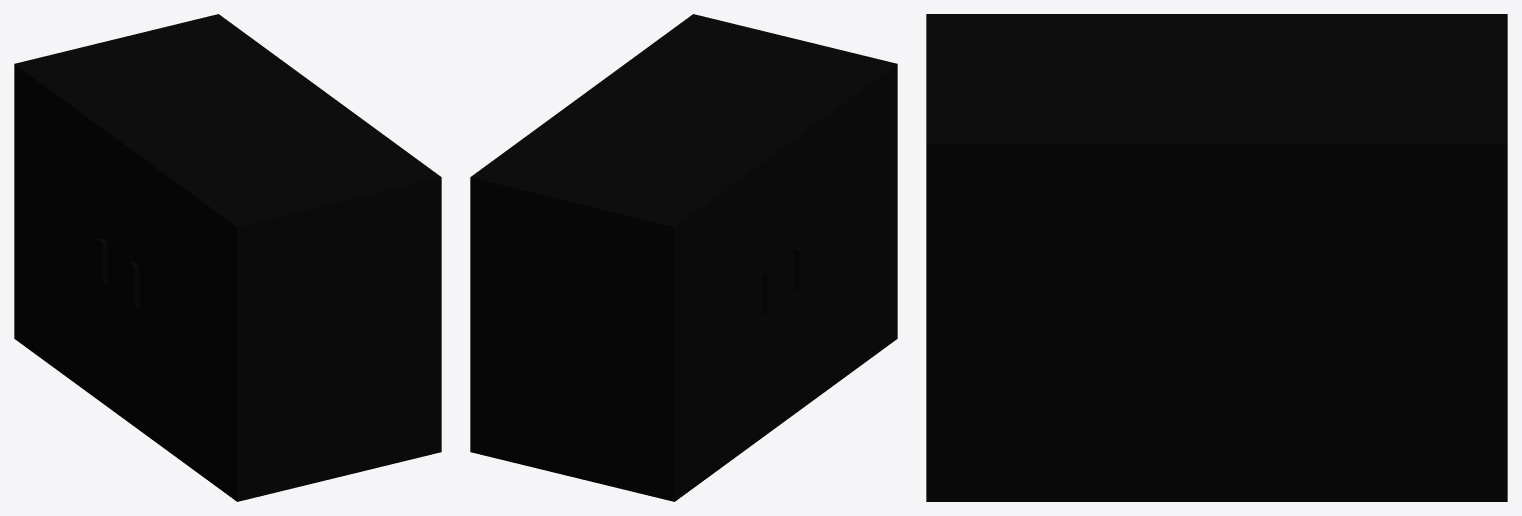
The model's file is FreeStandingKitchenCuboardA.fbx.
3 renders of one model, left to right at view 1: azimuth 30°, elevation 25°; view 2: azimuth 150°, elevation 25°; view 3: azimuth 270°, elevation 25°, orthographic. The views are drawn at different scales.
Parts seen in each view (by area): view 1: node_id5; view 2: node_id5; view 3: node_id5.
Part boxes in pixels (bbox=[...]): node_id5: bbox=[14, 14, 441, 501]; node_id5: bbox=[470, 14, 897, 501]; node_id5: bbox=[926, 14, 1507, 501].
Size of the model in its own units: 0.4084 by 0.512 by 0.7536.
1 material, 1 textured.
